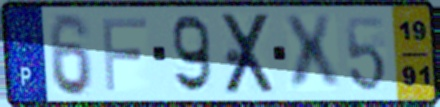5: (343, 14, 390, 93)
6: (46, 10, 96, 99)
9: (170, 13, 214, 94)
F: (99, 15, 150, 93)
X: (279, 12, 344, 95), (220, 11, 279, 97)
